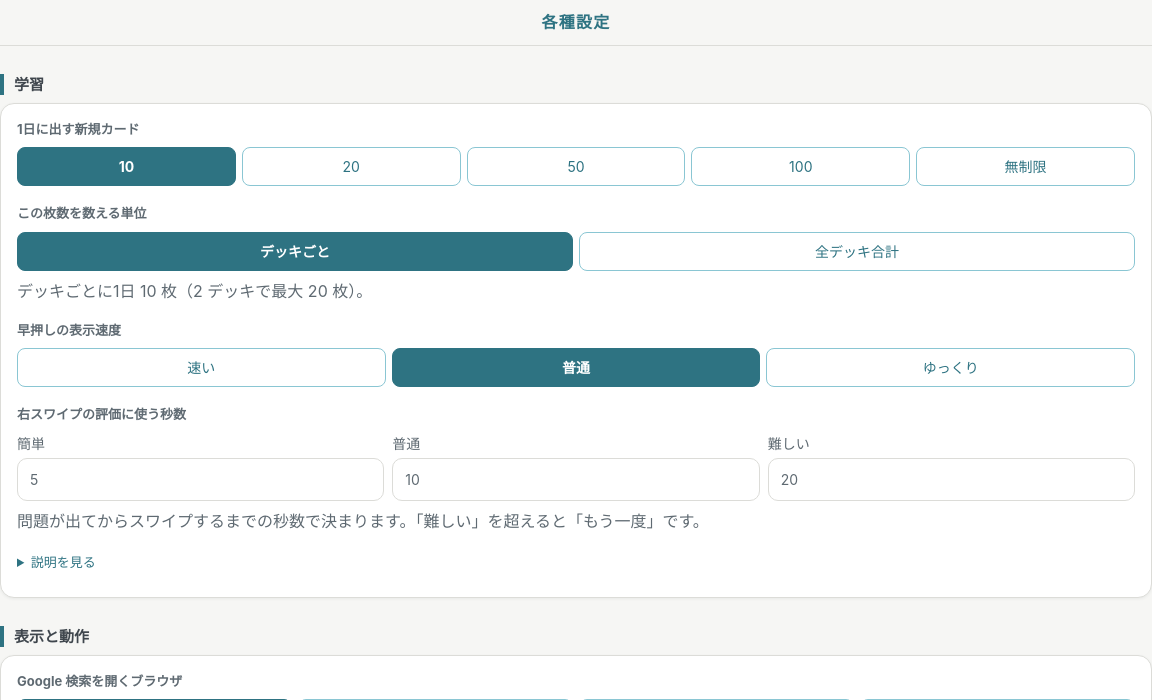
Scenario: 設定画面の構成 › 新規カードの説明は 1 行で、デッキ数があれば最大枚数を添える
Expected: the text "デッキごとに1日 10 枚（2 デッキで最大 20 枚）。" is shown, [17,281,372,301]
What coordinates should you click on to do the following:
click the button "無制限"
I would click on:
 (1026, 167)
Its box is [916,147,1135,186].
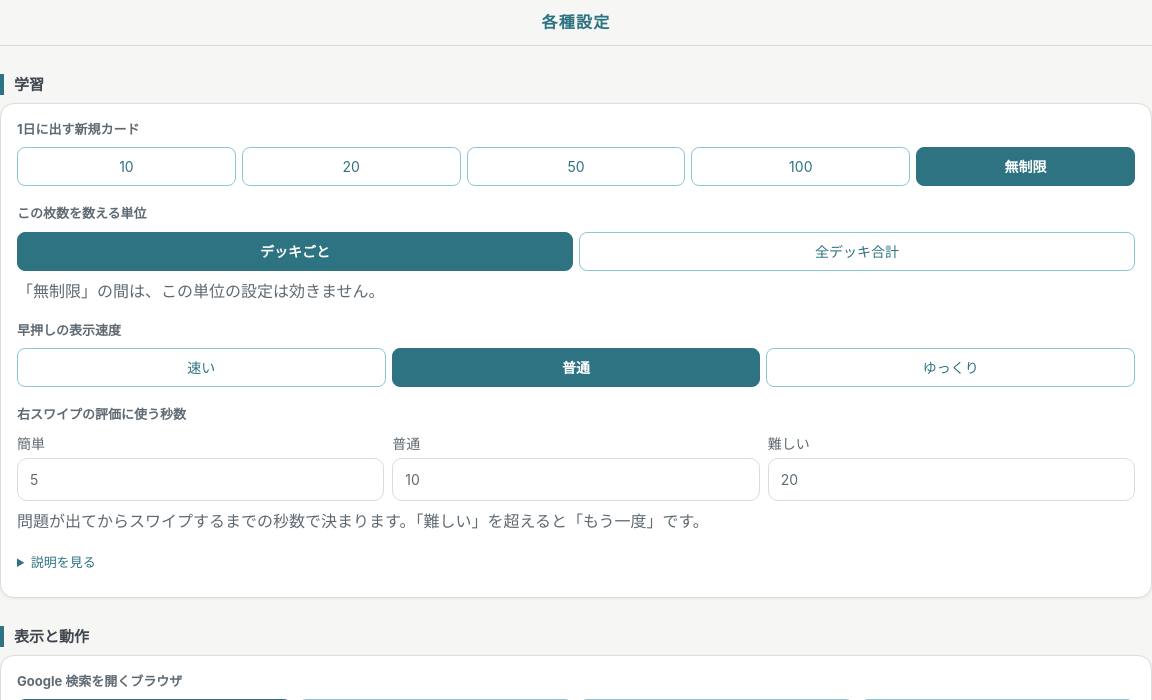
Expected: the text "「無制限」の間は、この単位の設定は効きません。" is shown, [17,281,384,301]
